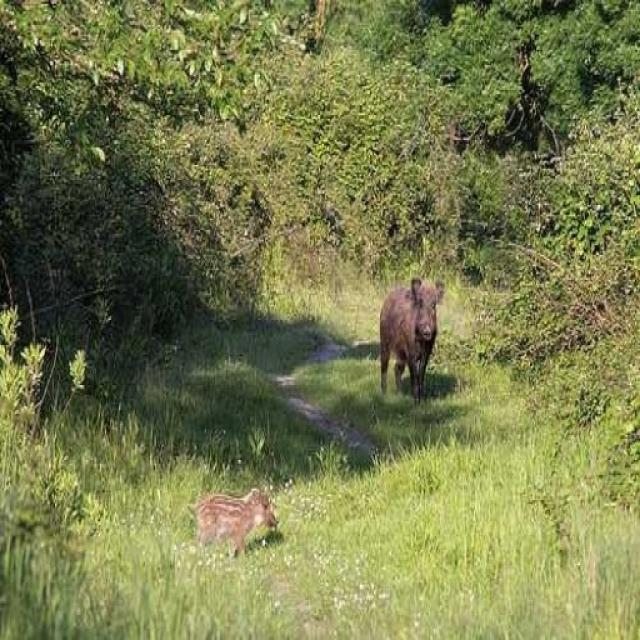pig: (335, 255, 457, 413)
